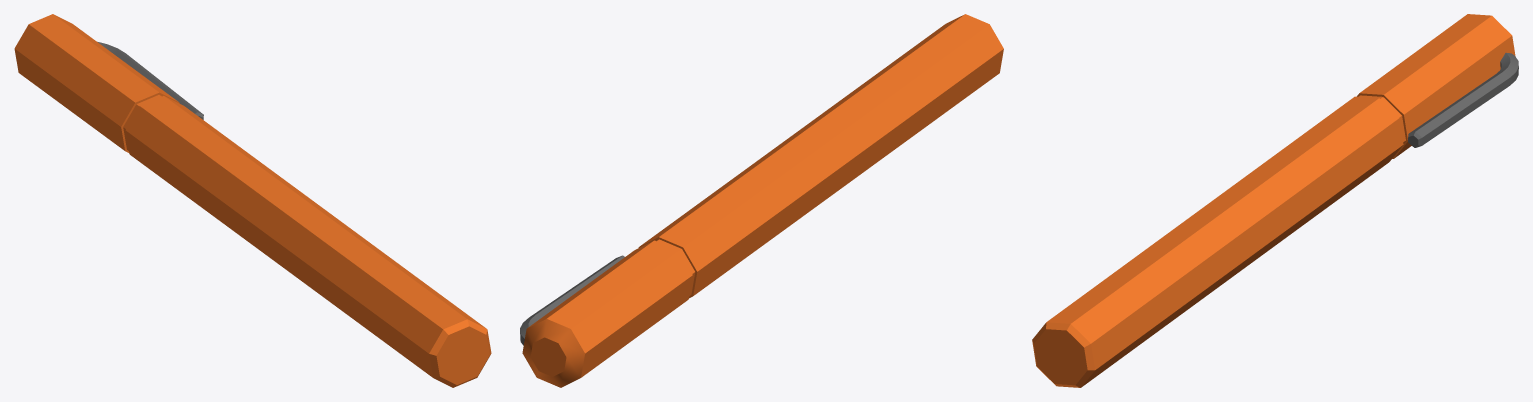
File: Lapiz02.fbx
3 views of the same model, side by side, from view 1: azimuth 30°, elevation 25°; view 2: azimuth 150°, elevation 25°; view 3: azimuth 330°, elevation 25° (orthographic).
Visible parts, largest first — view 1: Lapiz02; view 2: Lapiz02; view 3: Lapiz02.
Part boxes in pixels (<box>): Lapiz02: <box>14,14,491,387</box>; Lapiz02: <box>520,14,1003,387</box>; Lapiz02: <box>1032,14,1518,387</box>.
Size of the model in its own units: 1.22 by 0.9121 by 10.59.
